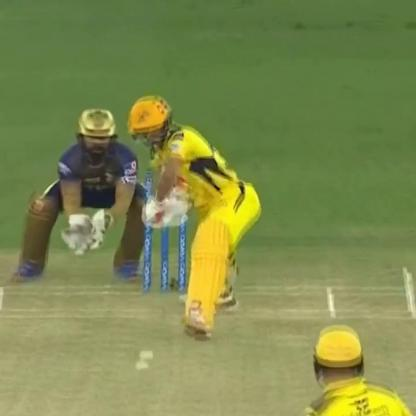ball: (128, 355, 152, 380), (141, 345, 153, 364)
pitch: (0, 263, 415, 415)
